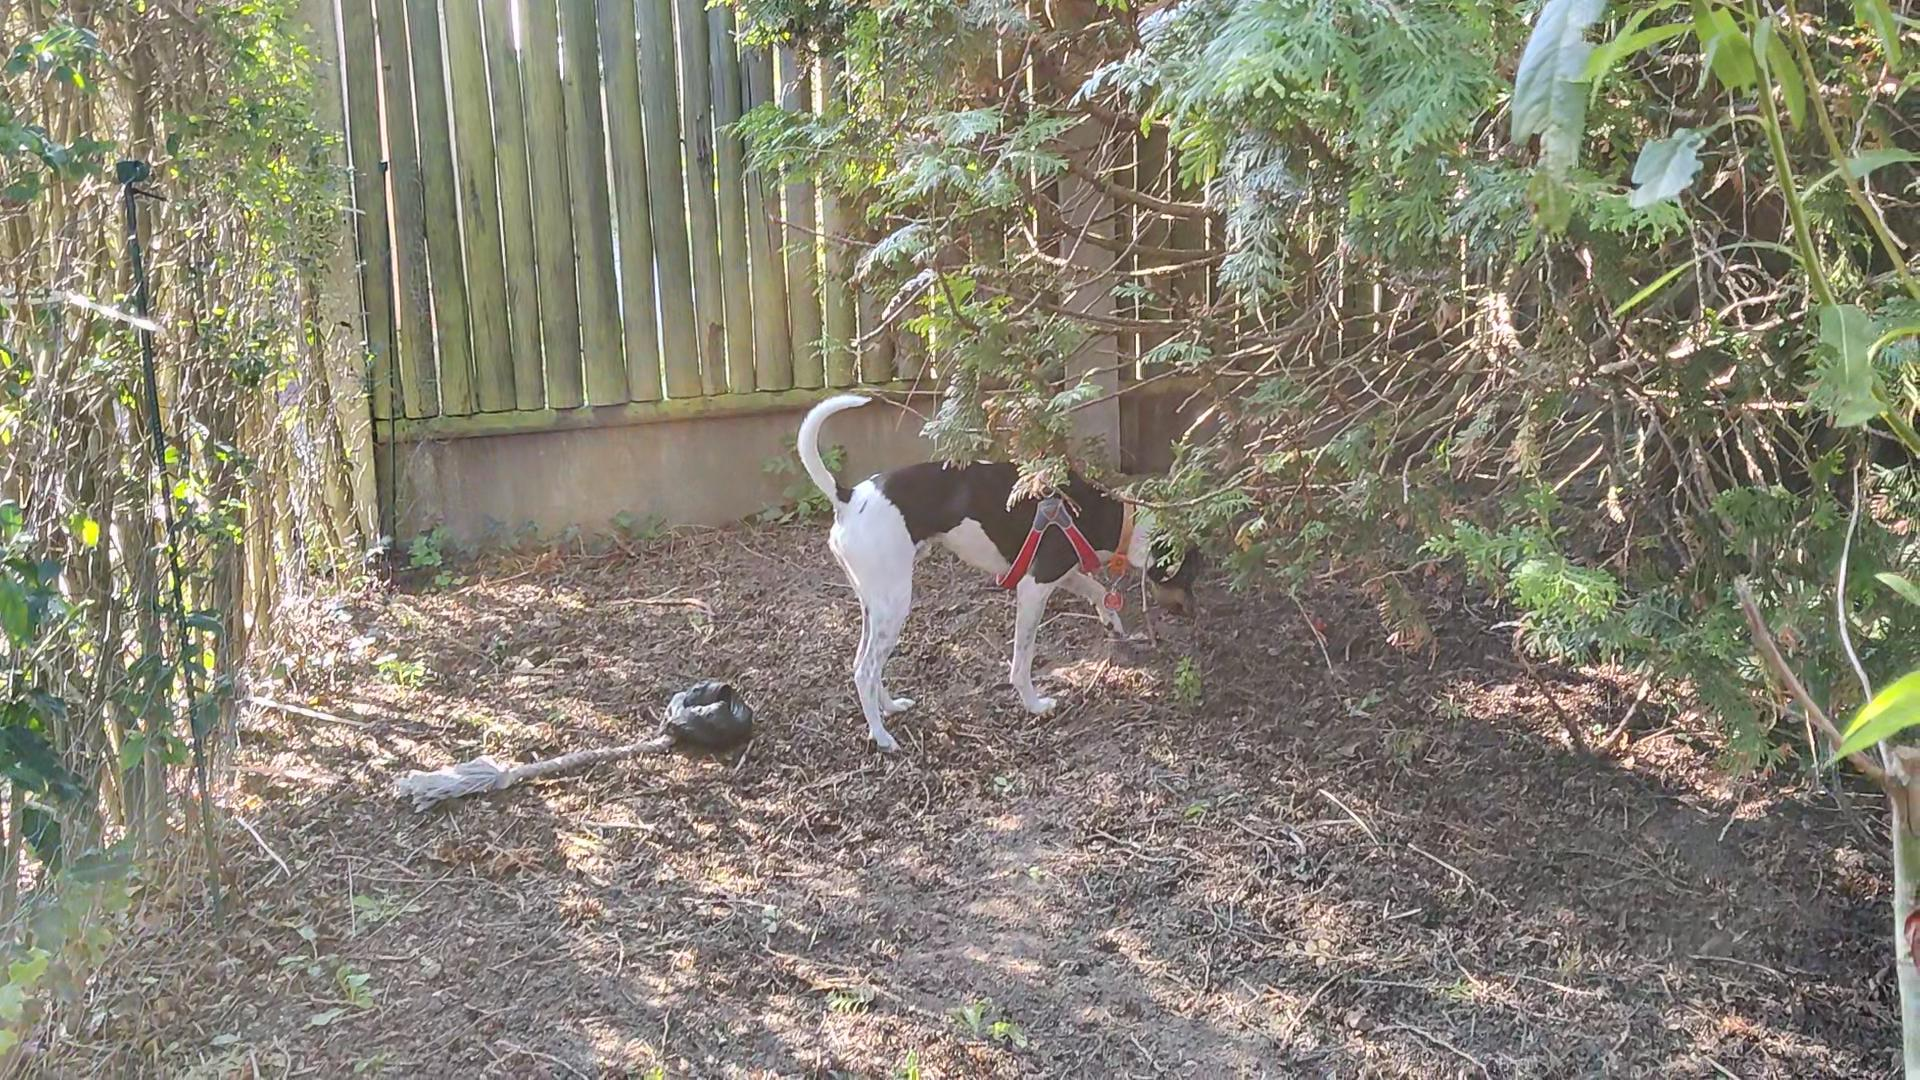Dog: (785, 390, 1207, 752)
